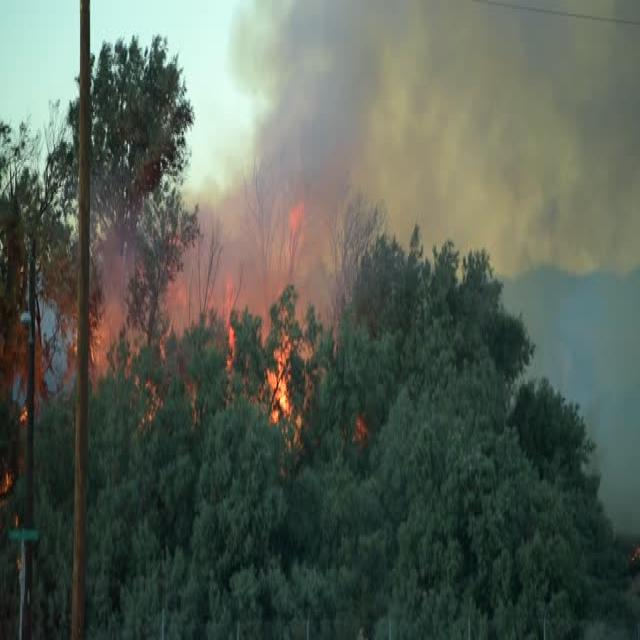fire: (219, 294, 310, 441)
